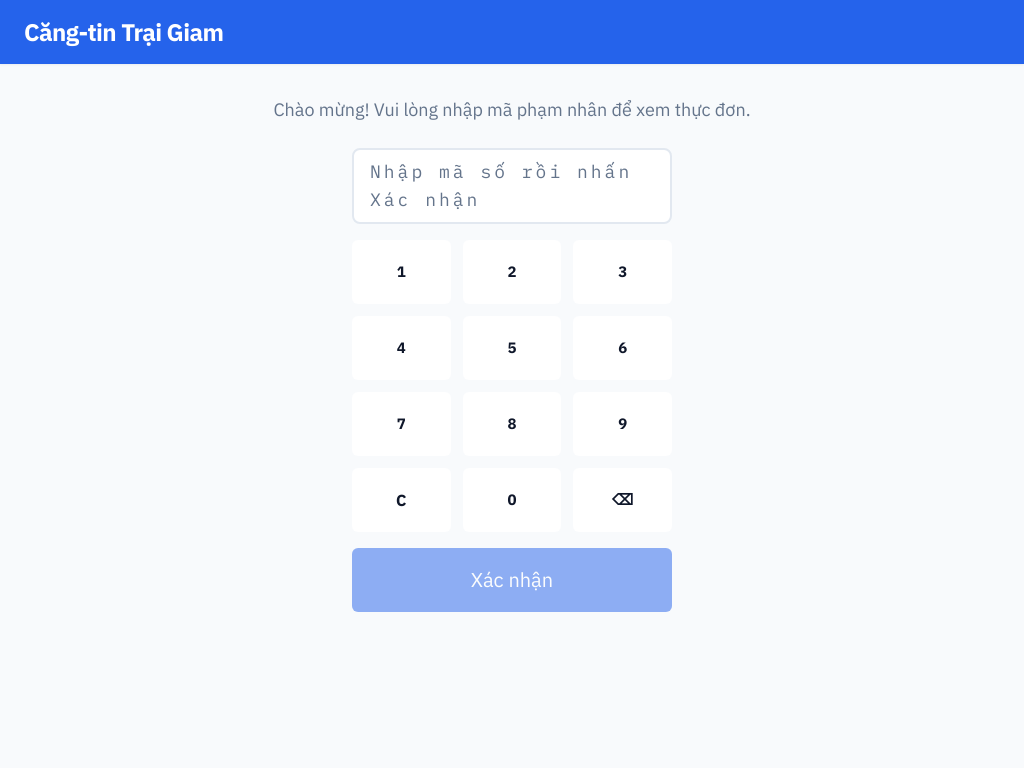
Test: CanteenPage — post-order branching › renders neutral placeholders for missing zone and cell
Click the button named "chữ số 1".
click(401, 272)  # box x1=352 y1=240 x2=451 y2=304
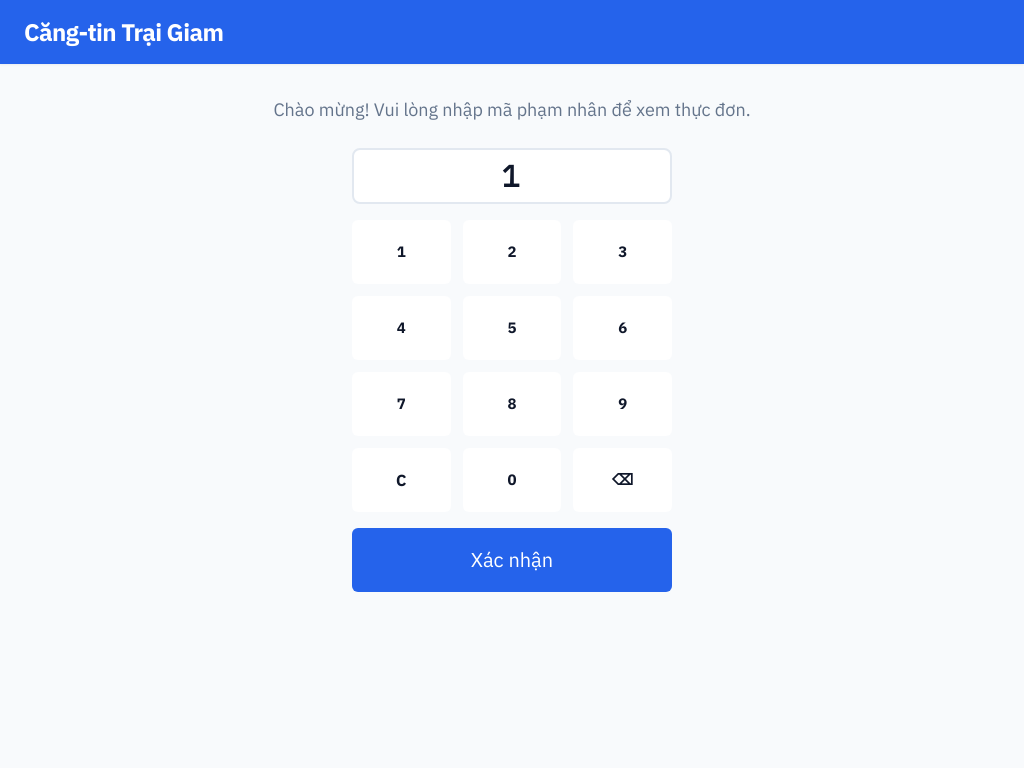
Click the button "Xác nhận".
click(512, 560)  # box x1=352 y1=528 x2=672 y2=592
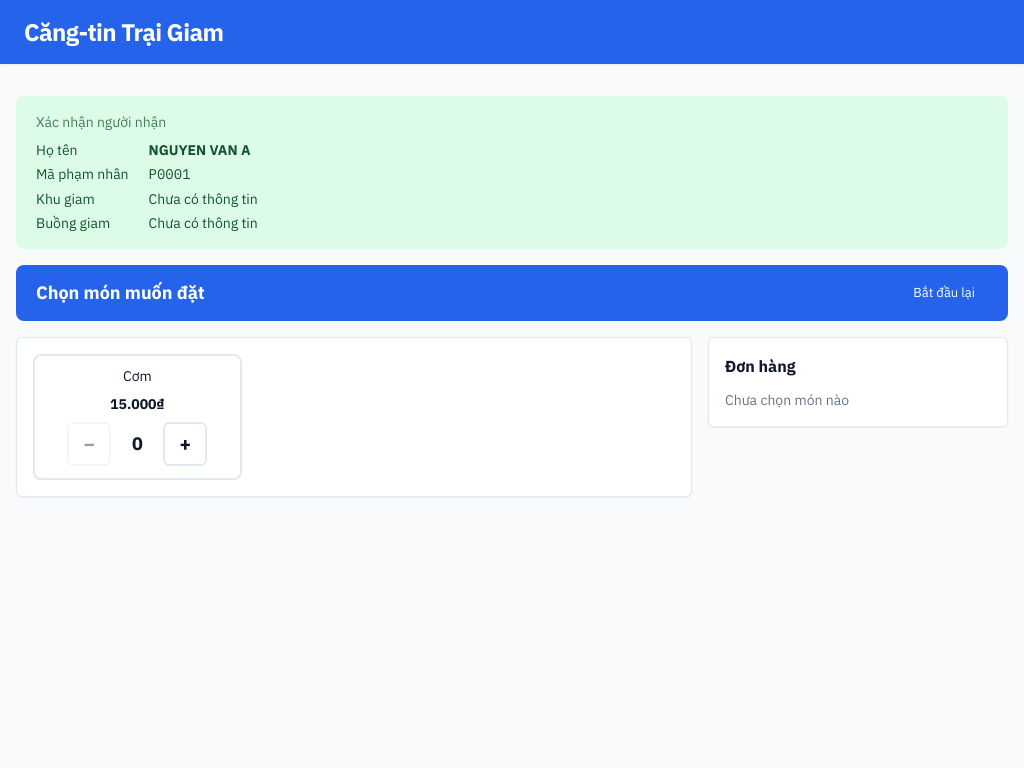
Result: the text "Chưa có thông tin" is shown 2 times at x1=149 y1=190 x2=258 y2=208; x1=149 y1=214 x2=258 y2=232
